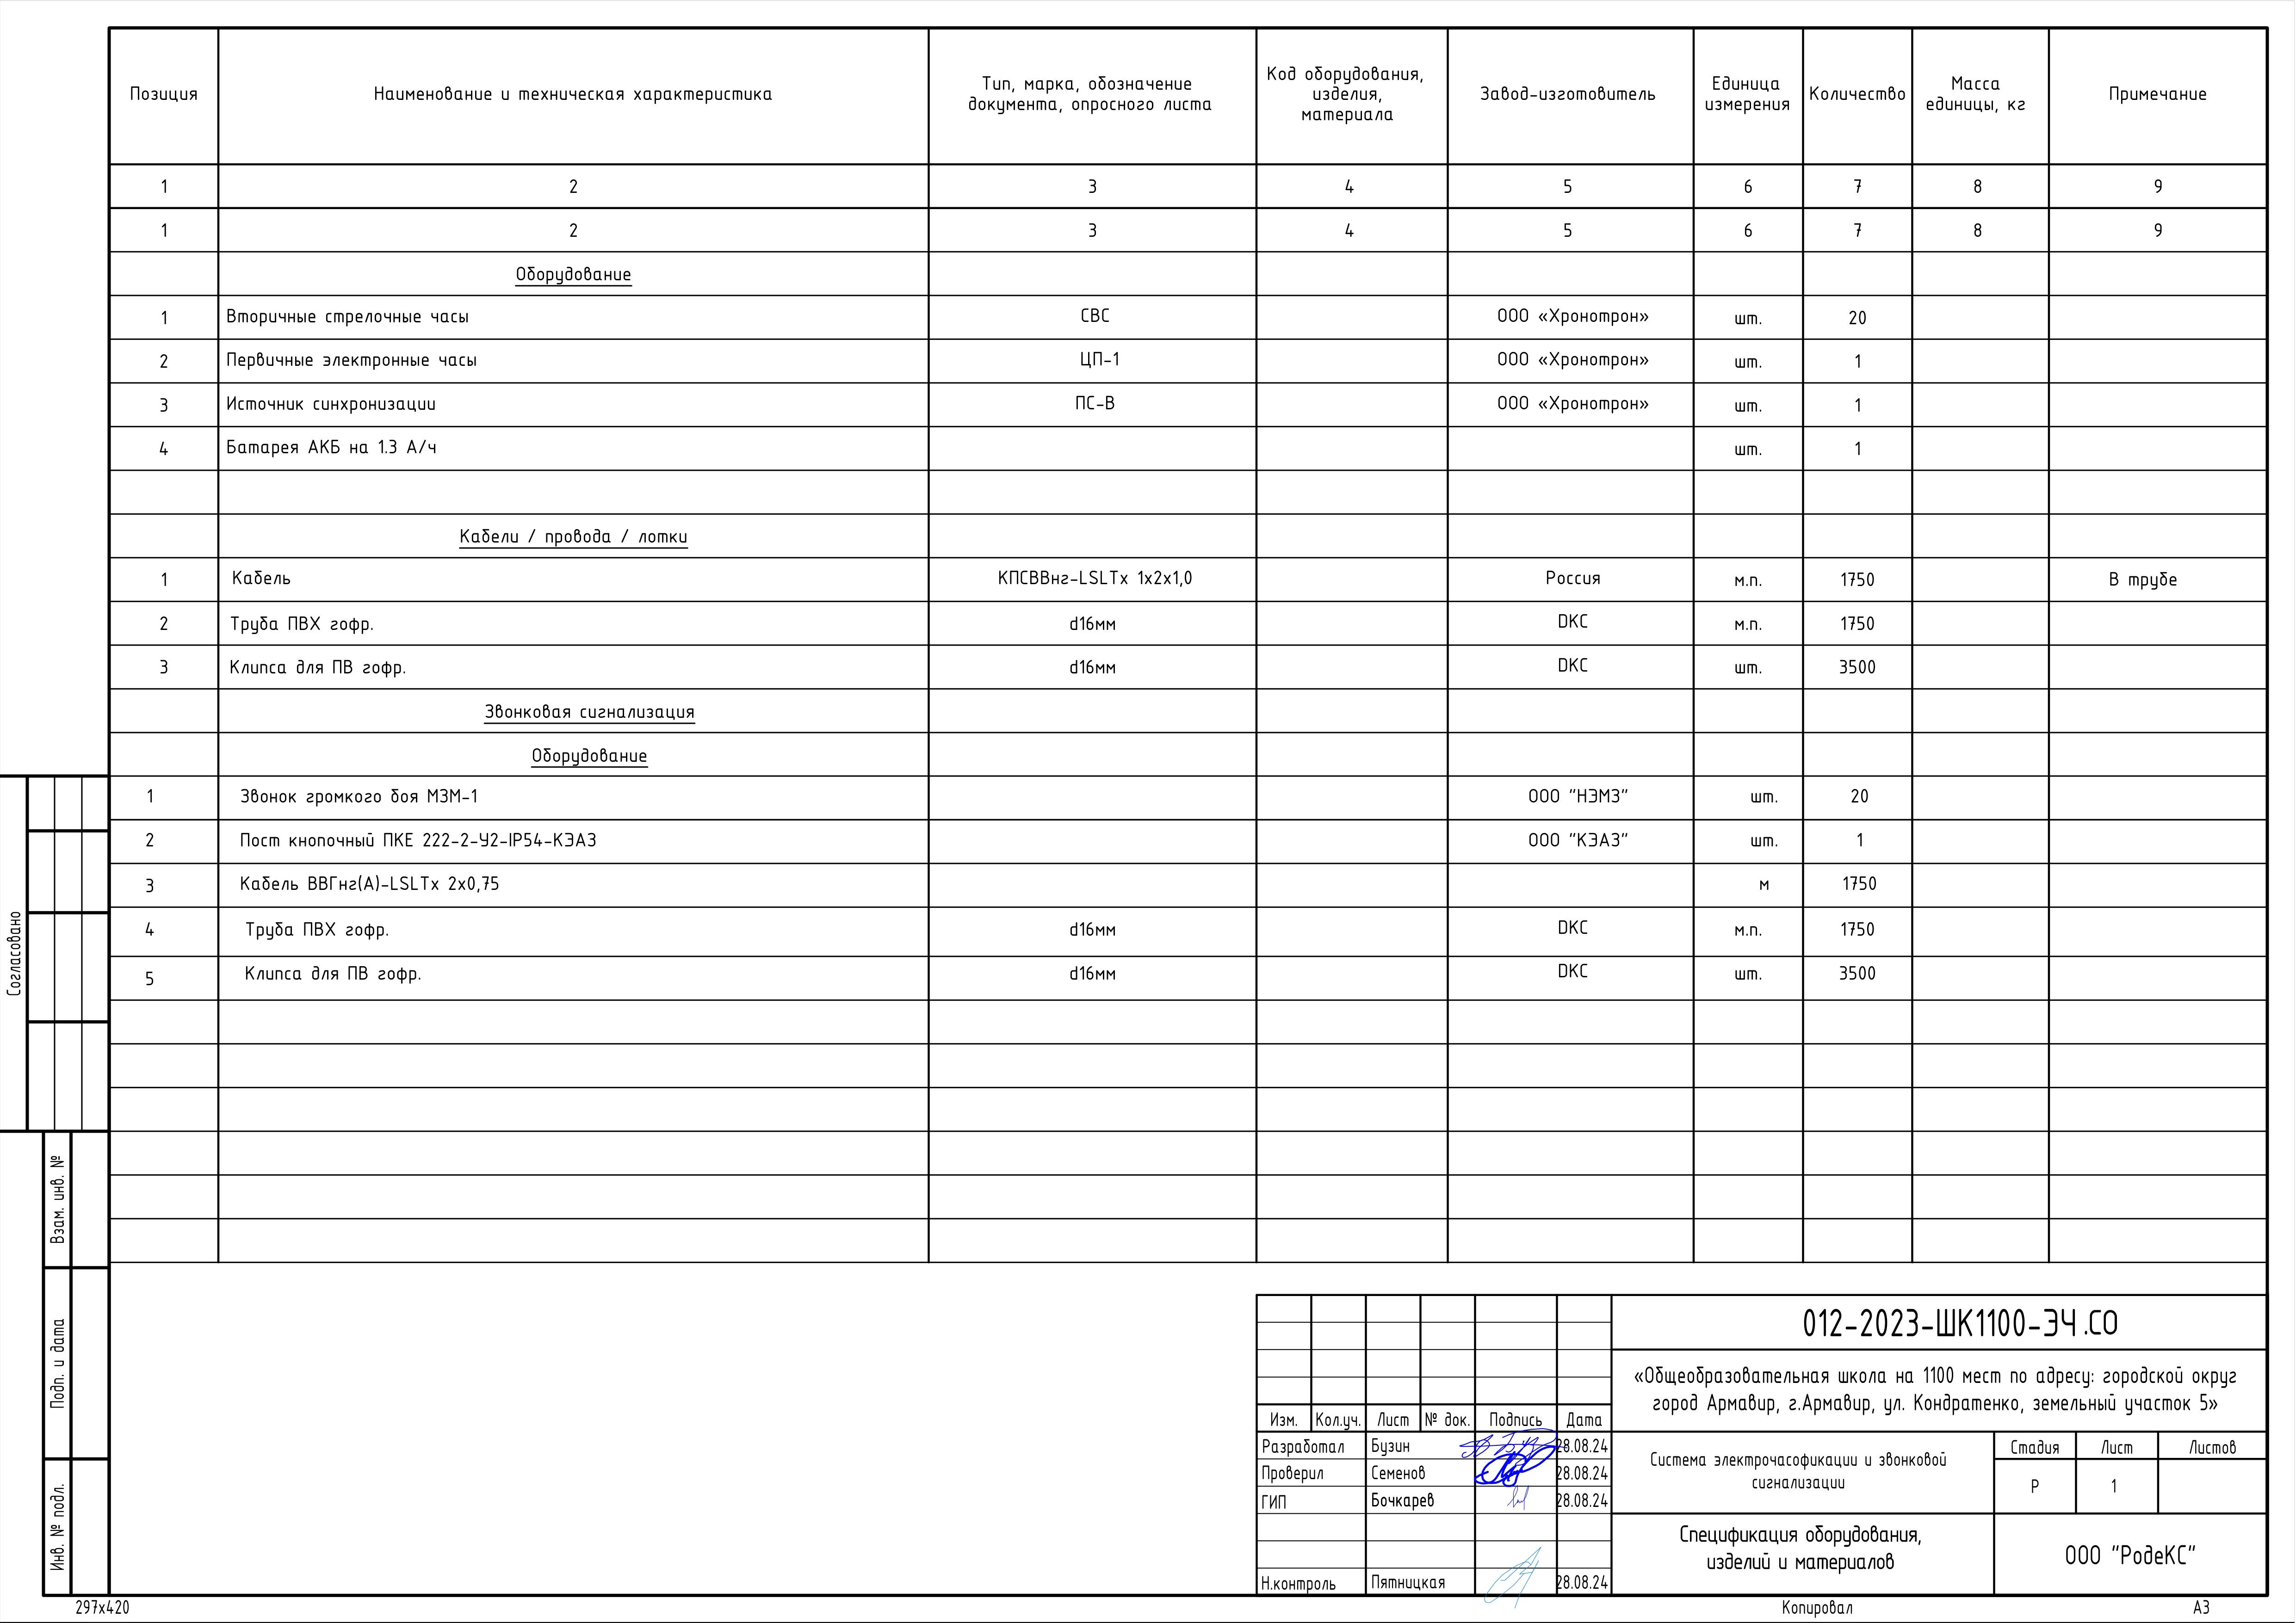Name of costs: (218, 165, 929, 1261)
Note: (929, 167, 1256, 1263)
Quantity: (1804, 165, 1911, 1263)
Unit of measurement: (1693, 163, 1802, 1261)
